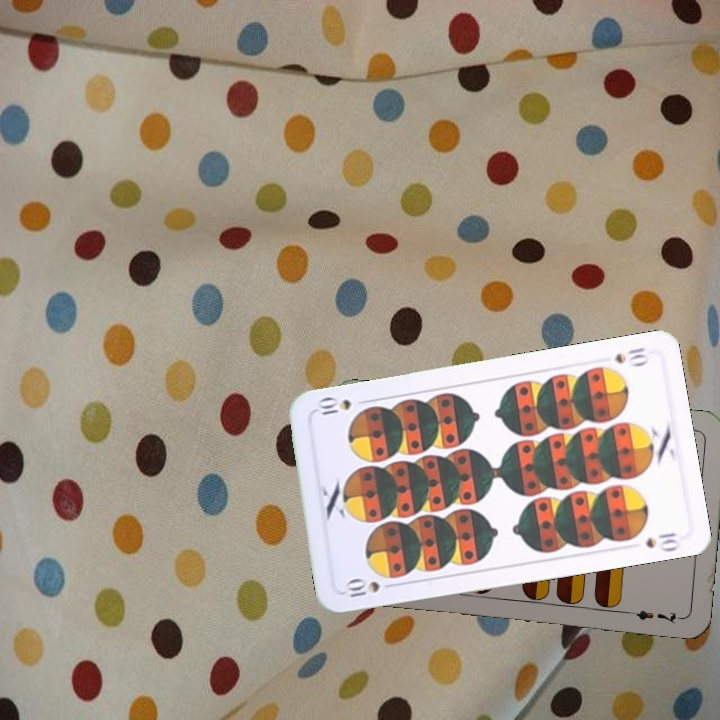S10: (340, 575, 399, 602), (611, 343, 652, 369)
